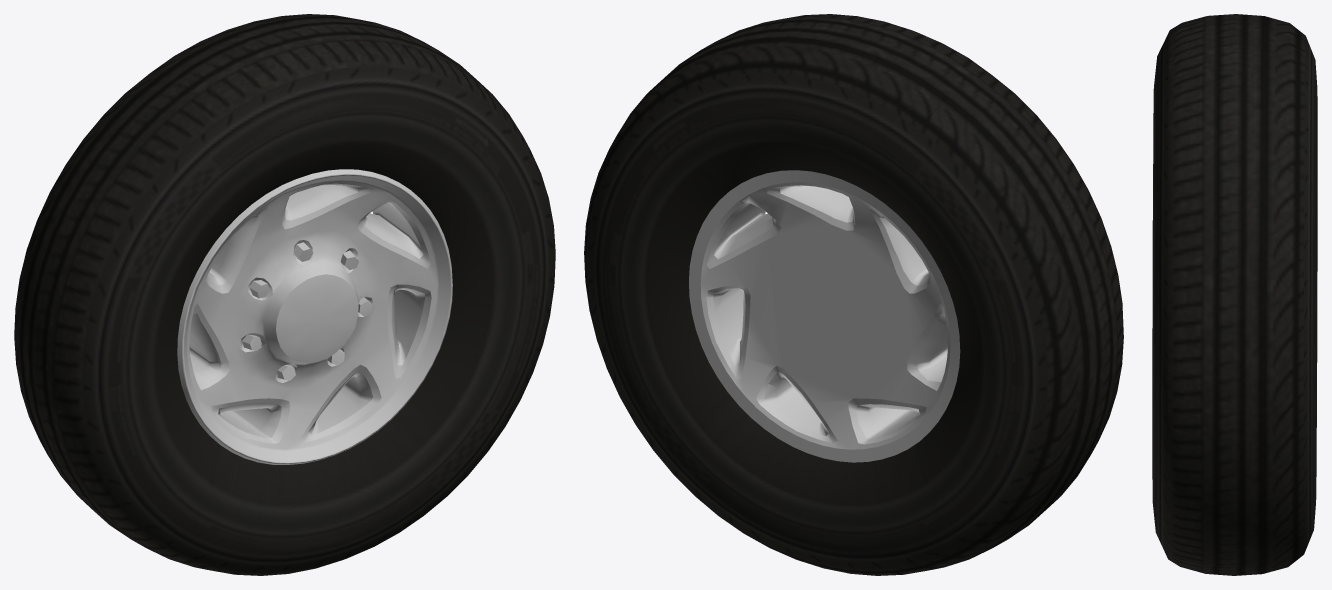
3 renders of one model, left to right at view 1: azimuth 30°, elevation 25°; view 2: azimuth 150°, elevation 25°; view 3: azimuth 270°, elevation 25°, orthographic. The views are drawn at different scales.
Parts seen in each view (by area): view 1: P615_5A_901C_R_2_DM_P615_5A_901C_R, P615_5A_901C_R_P615_5A_901C_R_1_DaS; view 2: P615_5A_901C_R_2_DM_P615_5A_901C_R, P615_5A_901C_R_P615_5A_901C_R_1_DaS; view 3: P615_5A_901C_R_2_DM_P615_5A_901C_R.
Boxes of the visible parts, x1=… form: P615_5A_901C_R_2_DM_P615_5A_901C_R: x1=14, y1=14, x2=555, y2=575; P615_5A_901C_R_P615_5A_901C_R_1_DaS: x1=177, y1=169, x2=452, y2=464; P615_5A_901C_R_2_DM_P615_5A_901C_R: x1=584, y1=14, x2=1123, y2=575; P615_5A_901C_R_P615_5A_901C_R_1_DaS: x1=689, y1=170, x2=960, y2=462; P615_5A_901C_R_2_DM_P615_5A_901C_R: x1=1152, y1=14, x2=1317, y2=575.
Bounding box in the file's own units: 86.11 × 86.1 × 25.3.
